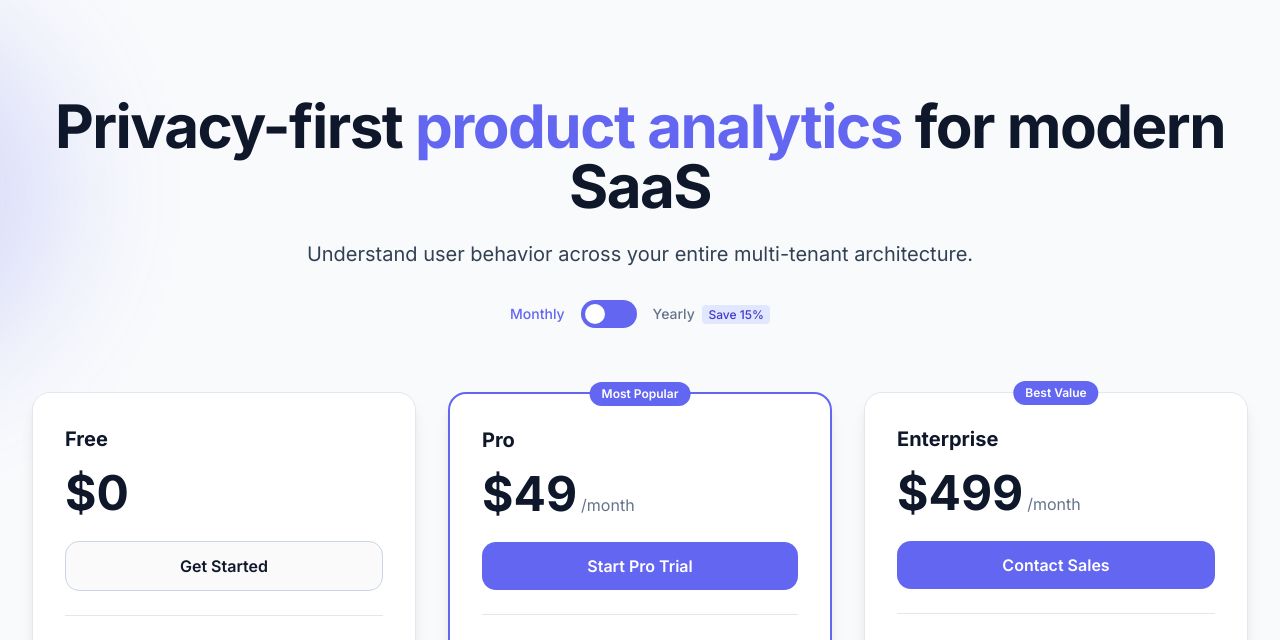
it: Pricing Component › Billing Toggle › maintains correct price after toggling back to monthly
The image size is (1280, 640).
What coordinates should you click on to do the following:
click the switch
I would click on:
 (609, 314)
Its box is [581, 300, 637, 328].
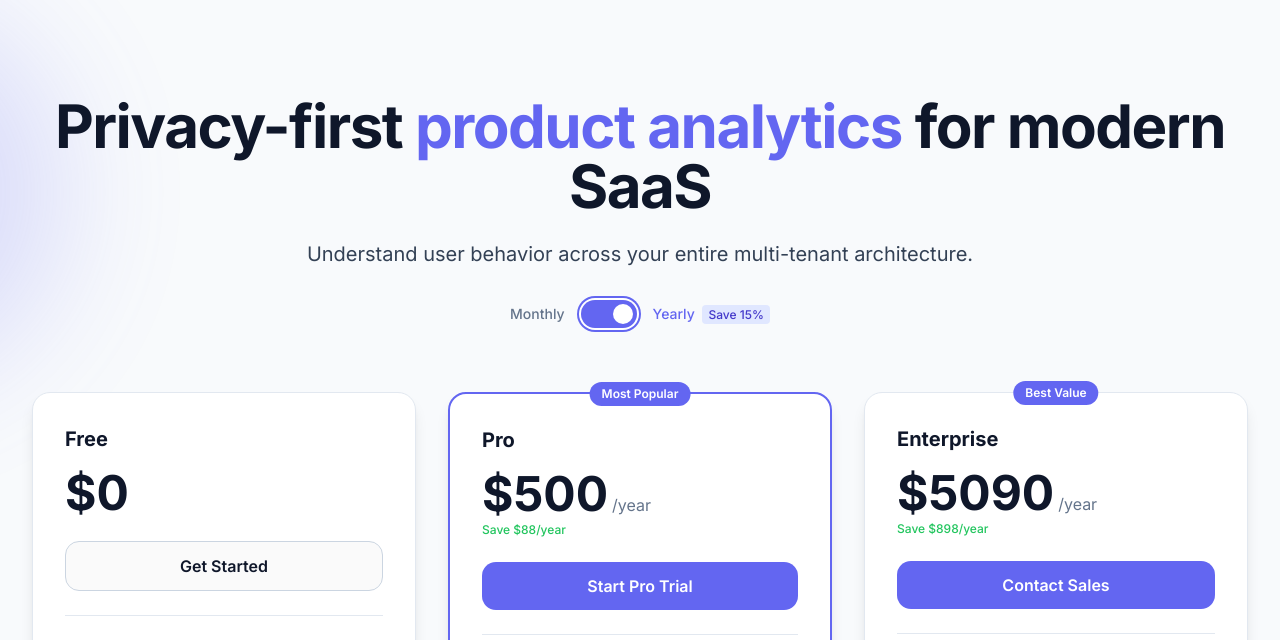
Result: the text "$500" is shown at [482, 464, 608, 523]
What coordinates should you click on to do the following:
click the switch
I would click on:
 (609, 314)
Its box is [581, 300, 637, 328].
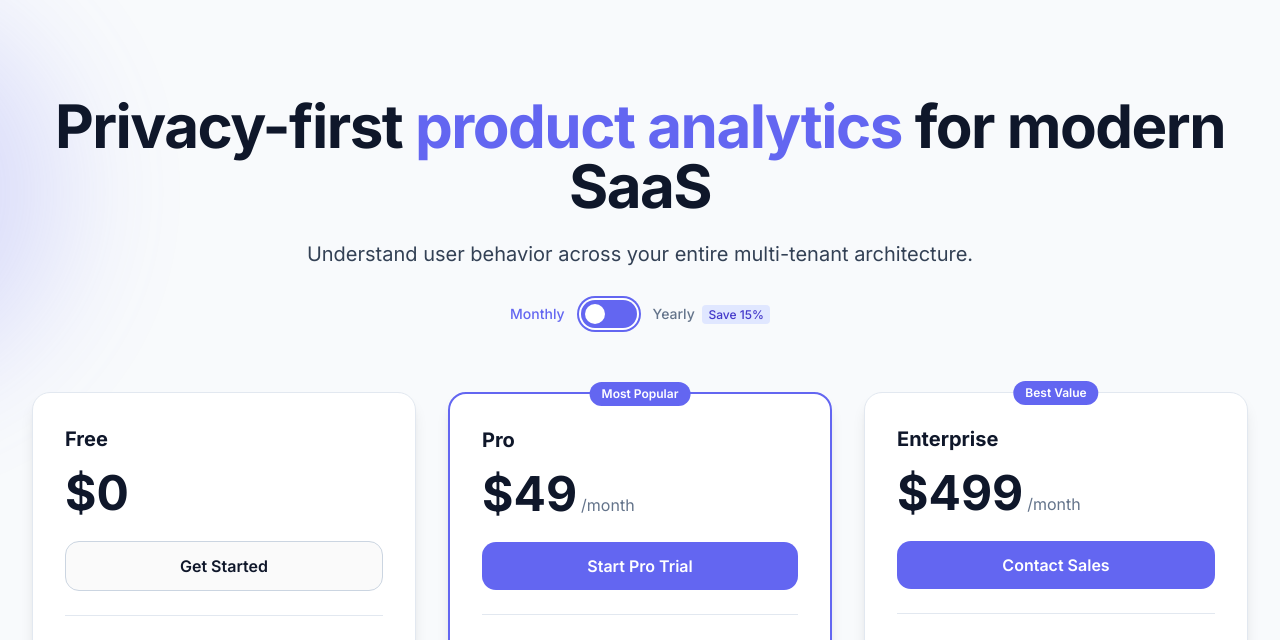
Expected: the text "/month" is shown 2 times, [581, 495, 635, 515]; [1027, 494, 1081, 514]
Result: the text "$49" is shown at [482, 464, 577, 523]
